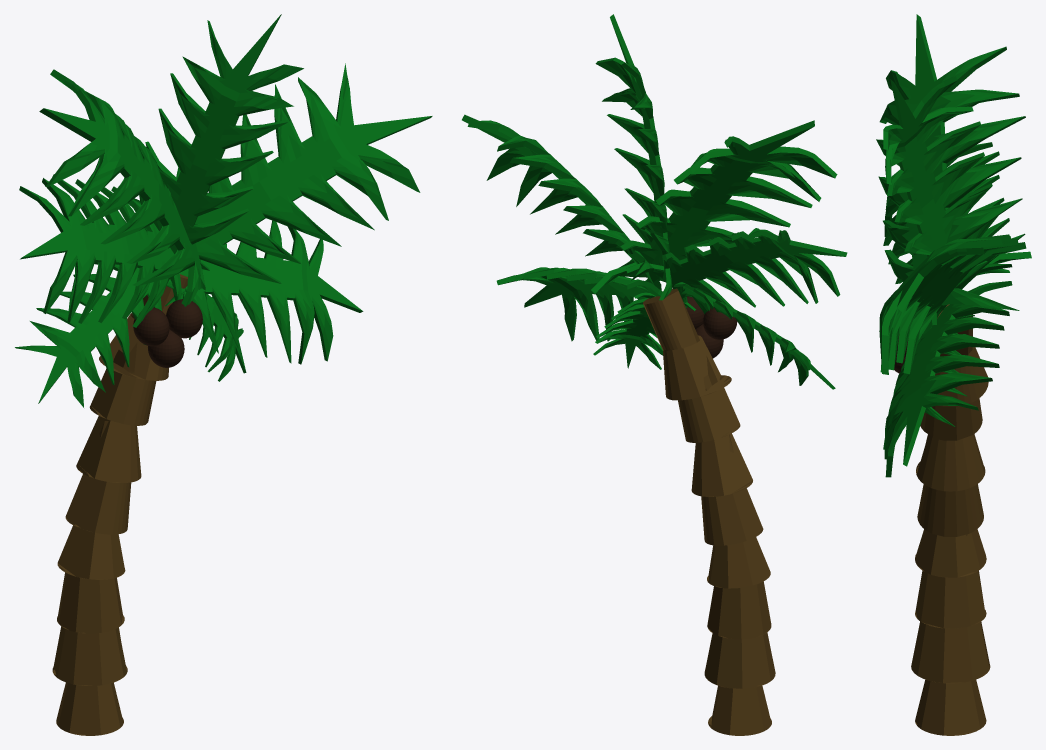
Rendered from palmtree.fbx.
3 views of the same model, side by side, from view 1: azimuth 30°, elevation 25°; view 2: azimuth 150°, elevation 25°; view 3: azimuth 270°, elevation 25° (orthographic). The views are drawn at different scales.
Parts seen in each view (by area): view 1: Cylinder, Cube.003, Cube.007, Cube.004, Cube, Cube.002, Cube.006, Cube.005, Sphere.001, Sphere, Sphere.002; view 2: Cylinder, Cube.004, Cube, Cube.003, Cube.007, Cube.002, Cube.006, Cube.005, Sphere; view 3: Cylinder, Cube.004, Cube.007, Cube.002, Cube.003, Cube, Cube.005.
Part boxes in pixels (x1,y1,x2,y2): Cylinder: (52,274,187,735); Cube.003: (133,63,432,300); Cube.007: (139,14,303,270); Cube.004: (39,69,200,306); Cube: (19,174,181,327); Cube.002: (173,220,363,364); Cube.006: (15,262,184,407); Cube.005: (165,288,246,381); Sphere.001: (166,299,202,338); Sphere: (133,307,169,346); Sphere.002: (148,329,184,367); Cylinder: (643,288,775,735); Cube.004: (591,120,837,297); Cube: (626,228,847,308); Cube.003: (462,114,661,290); Cube.007: (595,14,672,300); Cube.002: (496,267,662,343); Cube.006: (673,282,835,389); Cube.005: (593,292,695,369); Sphere: (703,307,737,339); Cylinder: (911,304,990,735); Cube.004: (876,14,1025,310); Cube.007: (883,76,1009,325); Cube.002: (883,281,1012,477); Cube.003: (879,234,1031,374); Cube: (883,142,1012,283); Cube.005: (925,315,974,426).
Size of the model in its own units: 1519 by 2444 by 476.
